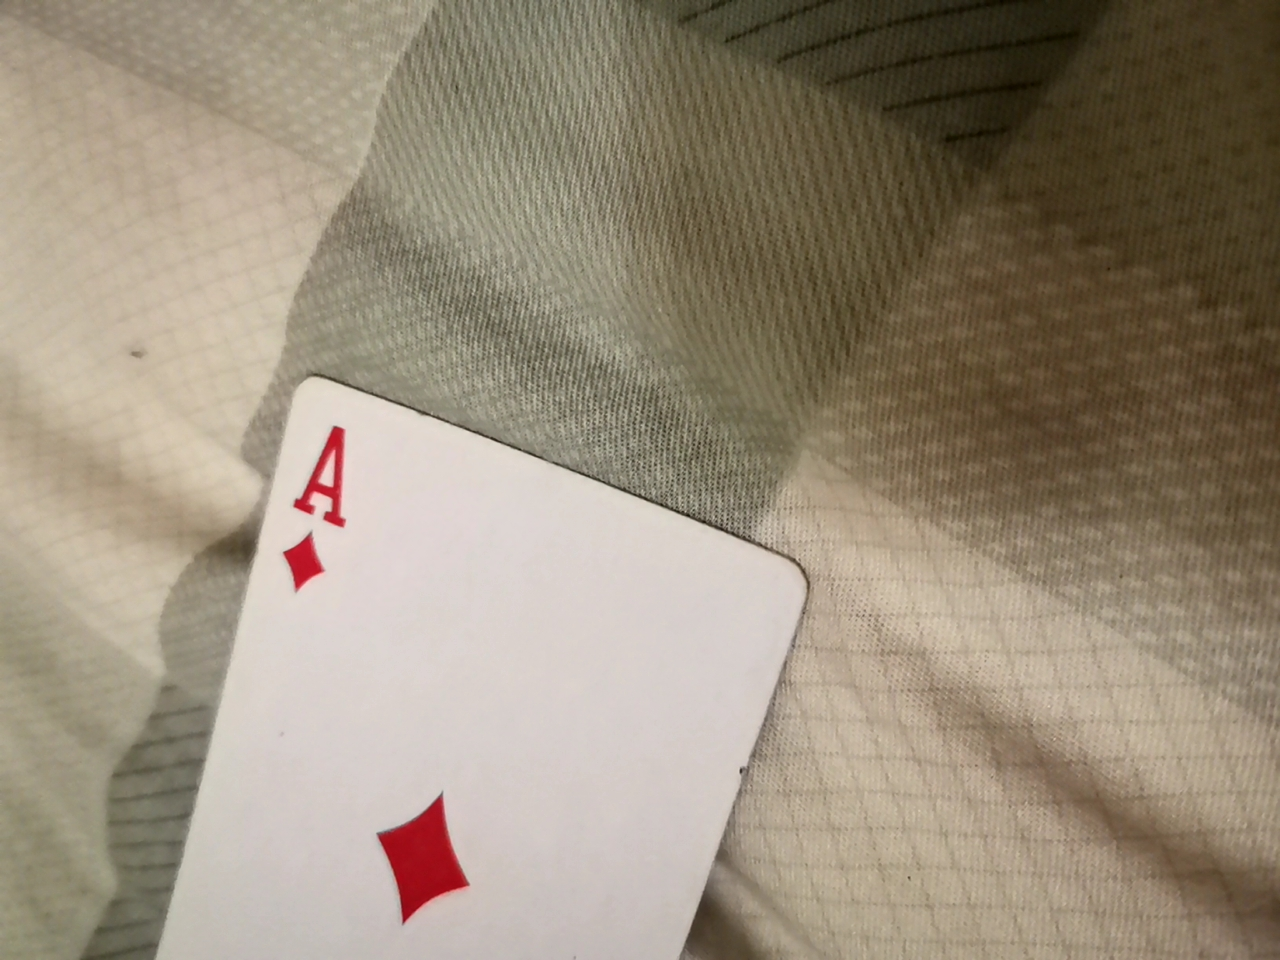fk a: (101, 367, 828, 956)
